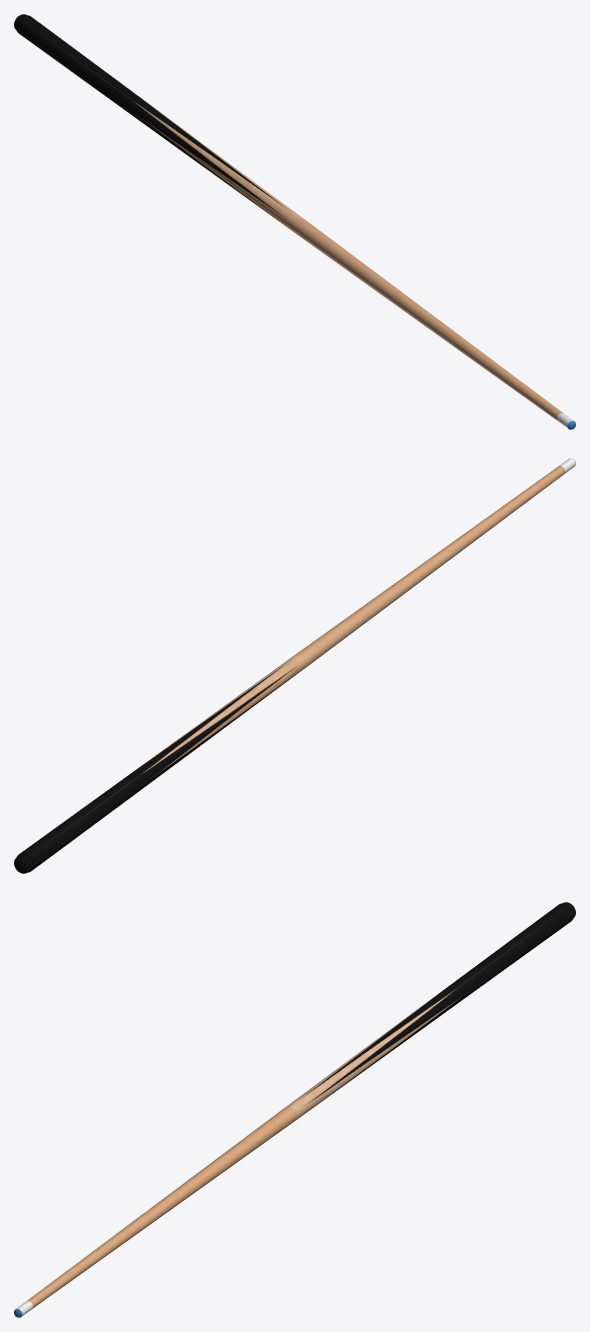
Rendered from cue.glb.
3 views of the same model, one above another, from view 1: azimuth 30°, elevation 25°; view 2: azimuth 150°, elevation 25°; view 3: azimuth 330°, elevation 25° (orthographic).
Visible parts, largest first — view 1: CueStick_CueStick_0; view 2: CueStick_CueStick_0; view 3: CueStick_CueStick_0.
Boxes of the visible parts, x1,y1,x2,y2 form: CueStick_CueStick_0: (14,14,575,429); CueStick_CueStick_0: (14,458,575,873); CueStick_CueStick_0: (14,902,575,1317).
Size of the model in its own units: 0.0271 by 0.0271 by 1.43.
1 material, 1 textured.
